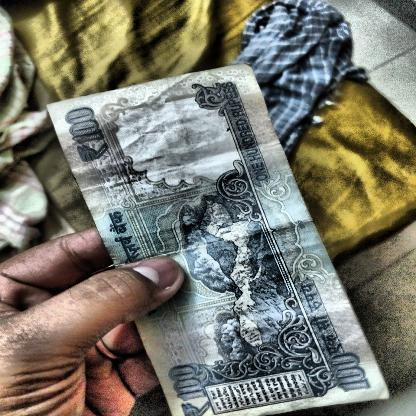Rs100: (56, 102, 128, 176), (318, 342, 386, 400), (161, 355, 223, 416)
